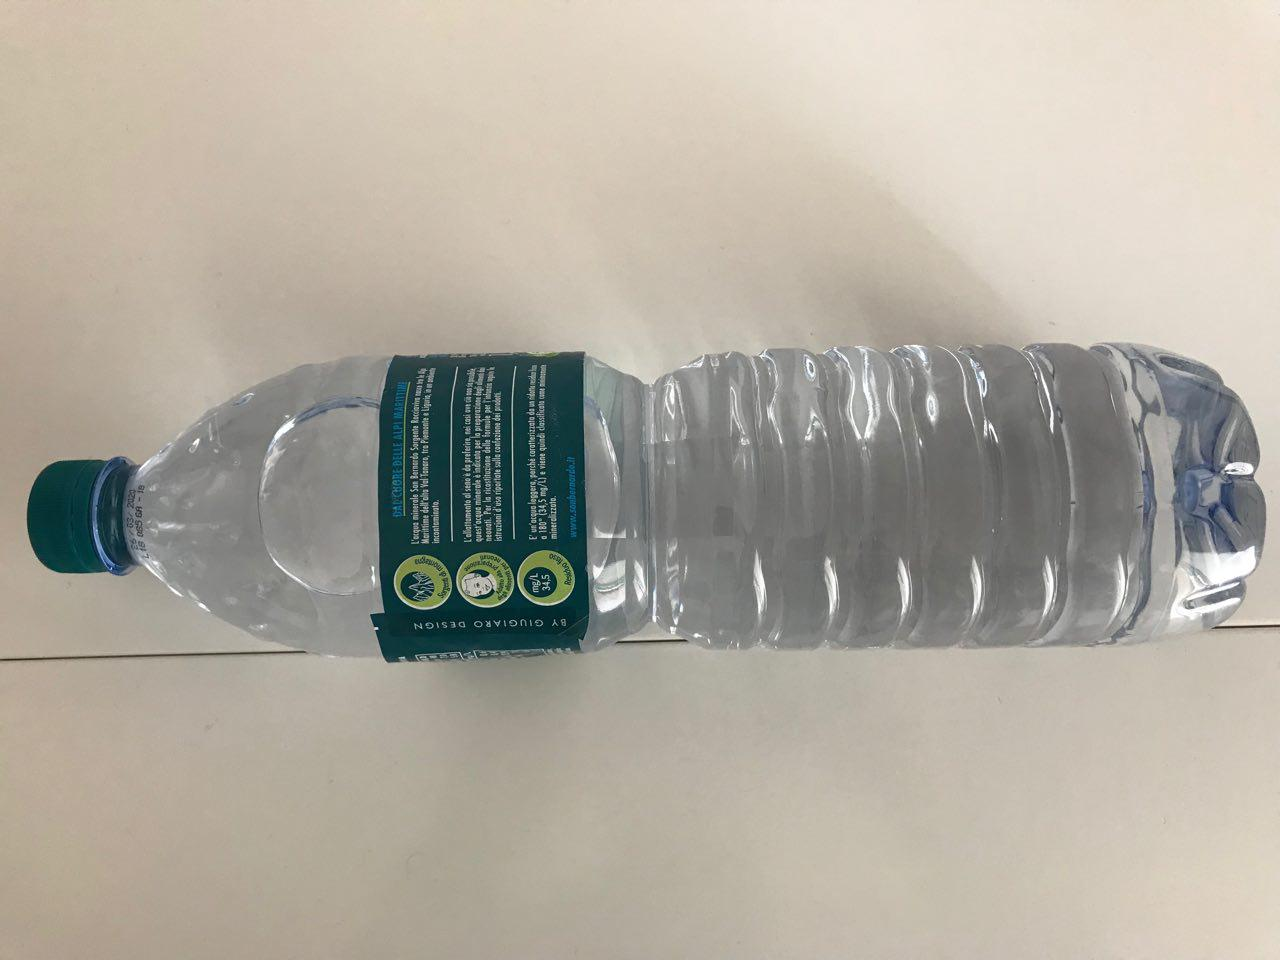san_bernardo: (25, 339, 1269, 664)
